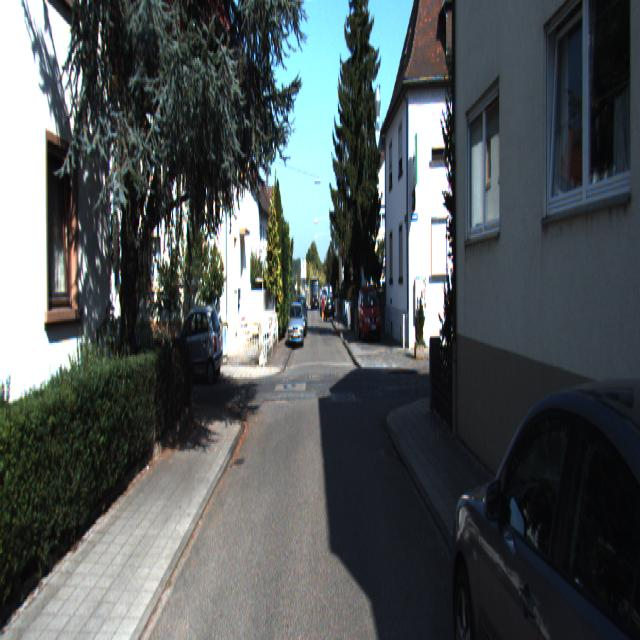Car: (445, 328, 639, 638), (164, 300, 220, 382), (357, 284, 381, 344), (289, 302, 303, 350)
DontCare: (320, 283, 334, 322)
